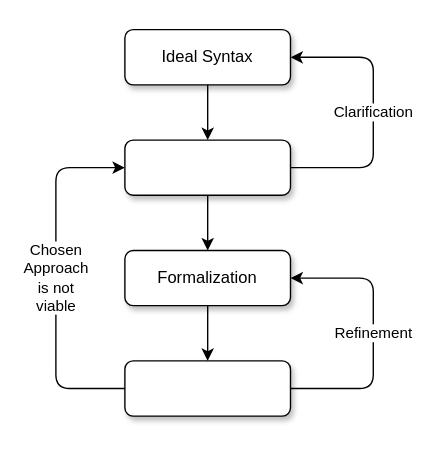
Image size: 436x450. Some labels were removed from this diagram. Here are the shapes that lost their labels. From the top down, the centre of each, then its label:
At point (208, 169): "Prototyping".
At point (208, 390): "Implementation".
